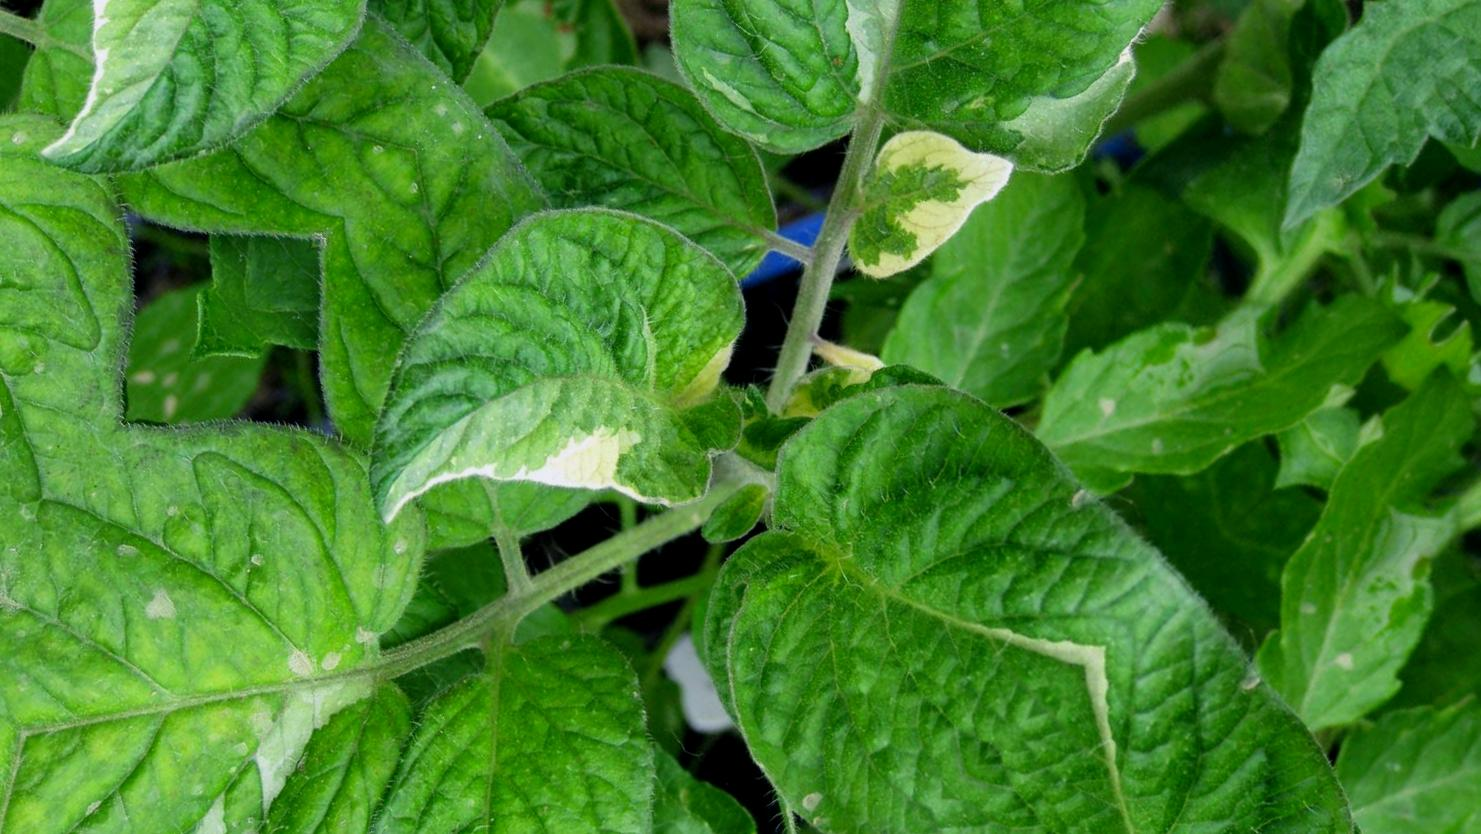Tomato leaf: (592, 293, 1188, 834), (269, 606, 764, 834), (1179, 0, 1481, 284)
